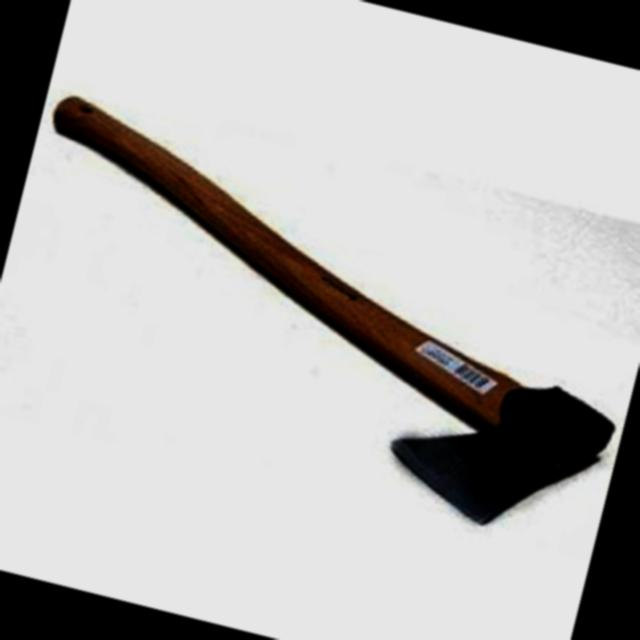ax: (0, 83, 640, 558)
